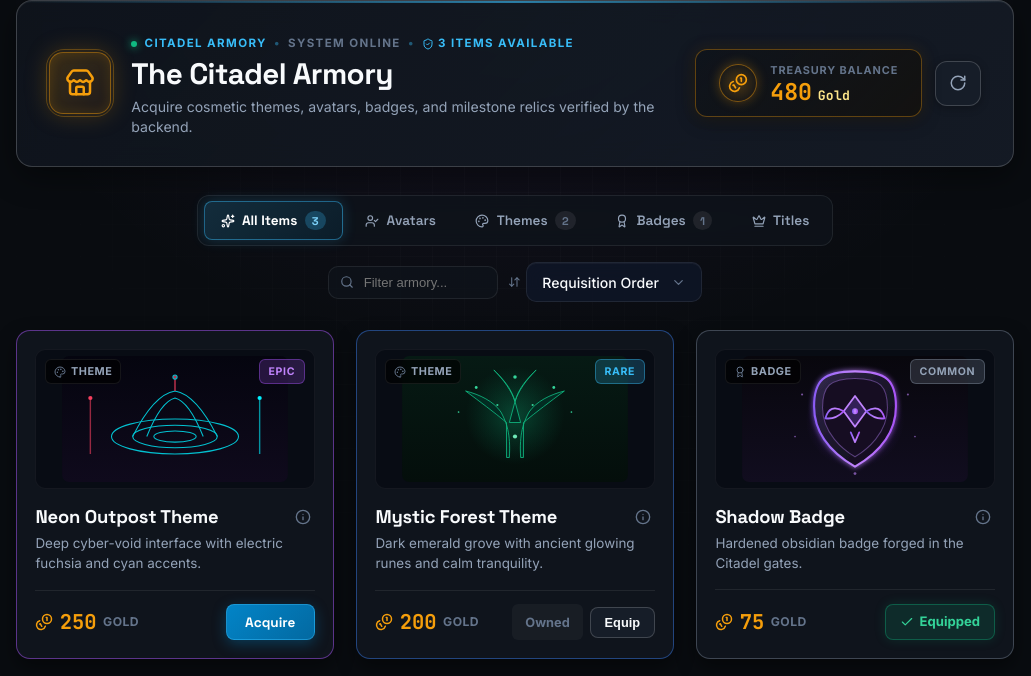
Scenario: Phase 5 — Shop, Inventory & Rewards System › 17. filters items by search keyword in the toolbar
Type "Obsidian" into the field named "Filter armory items by keyword". click: (412,282)
box: [328,266,498,299]
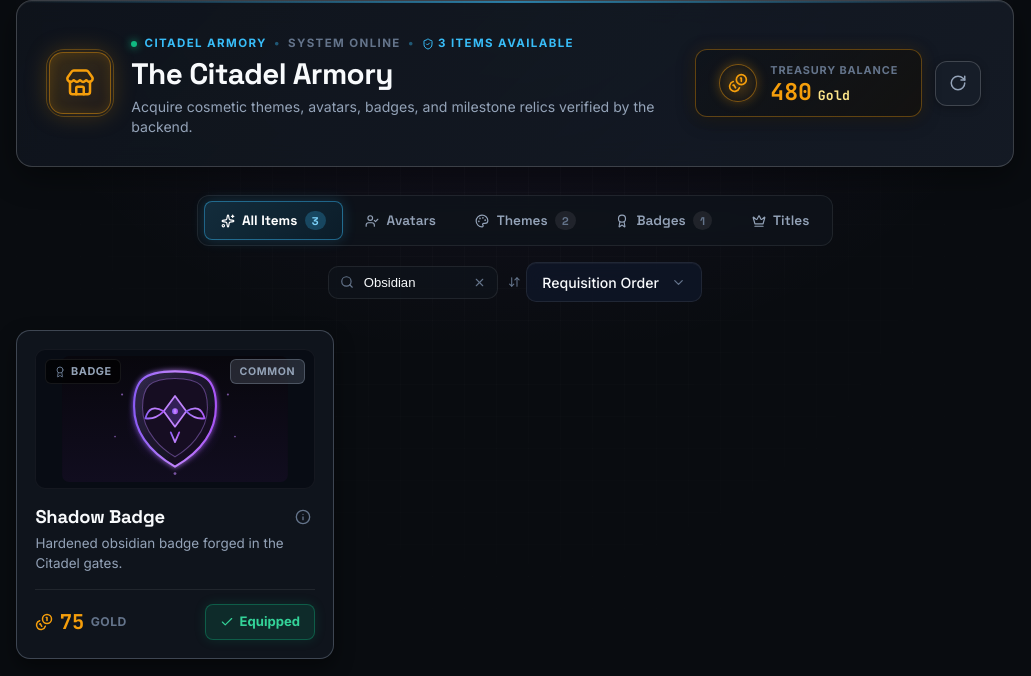
Expected: the heading "Shadow Badge" is shown, [36,506,165,528]
Now the heading "Neon Outpost Theme" is gone
